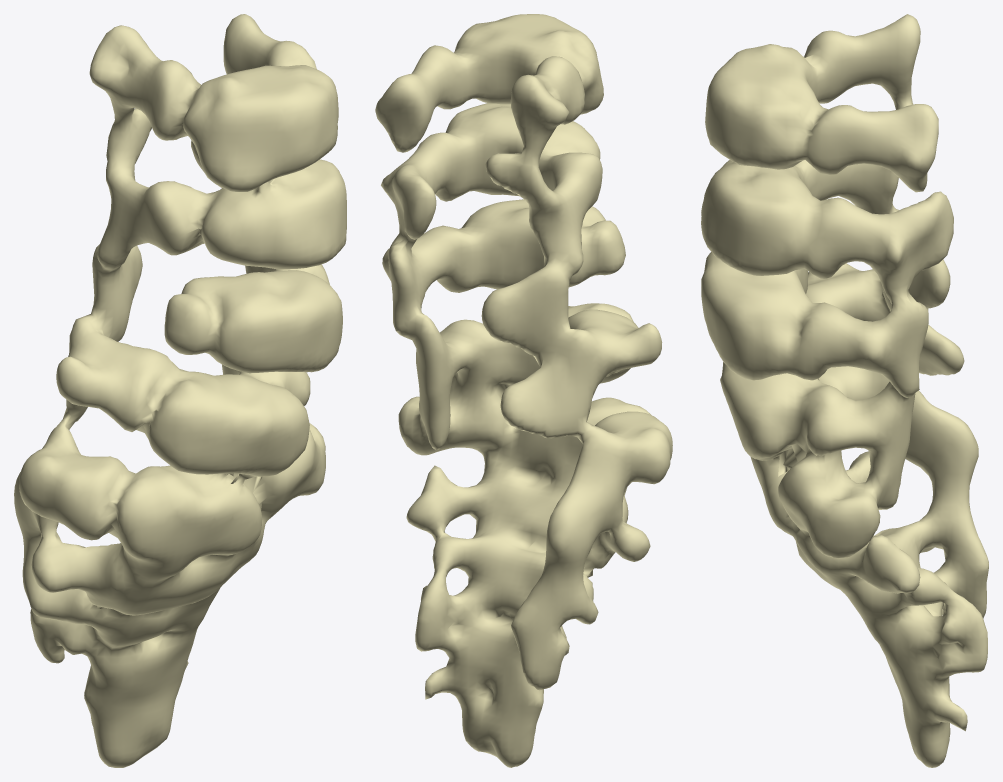
File: Pat2_Mav_LumboSacralComplex.fbx
The picture shows the model from 3 angles, left to right: view 1: azimuth 30°, elevation 25°; view 2: azimuth 150°, elevation 25°; view 3: azimuth 270°, elevation 25°; orthographic projection. The views are drawn at different scales.
Parts seen in each view (by area): view 1: sm_LumboSacralComplex; view 2: sm_LumboSacralComplex; view 3: sm_LumboSacralComplex.
Boxes of the visible parts, x1,y1,x2,y2 form: sm_LumboSacralComplex: (14, 14, 346, 767); sm_LumboSacralComplex: (375, 14, 672, 767); sm_LumboSacralComplex: (701, 14, 988, 767).
Bounding box in the file's own units: 40.42 × 95.44 × 33.64.
